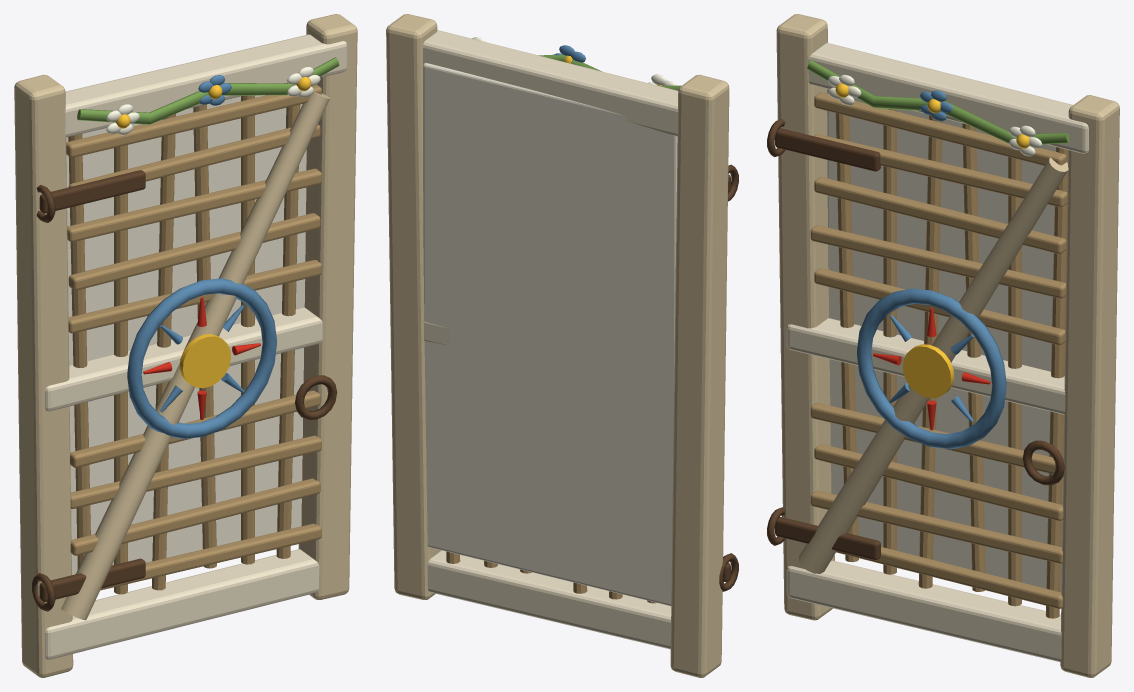
Rendered from ritual_gate_door.glb.
The picture shows the model from 3 angles, left to right: view 1: azimuth 30°, elevation 25°; view 2: azimuth 150°, elevation 25°; view 3: azimuth 330°, elevation 25°; orthographic projection.
Visible parts, largest first — view 1: ritual_gate_door; view 2: ritual_gate_door; view 3: ritual_gate_door.
Boxes of the visible parts, x1=… form: ritual_gate_door: x1=14, y1=14, x2=357, y2=677; ritual_gate_door: x1=386, y1=14, x2=738, y2=677; ritual_gate_door: x1=767, y1=14, x2=1119, y2=677.
Size of the model in its own units: 2.03 by 3.48 by 0.3758.
